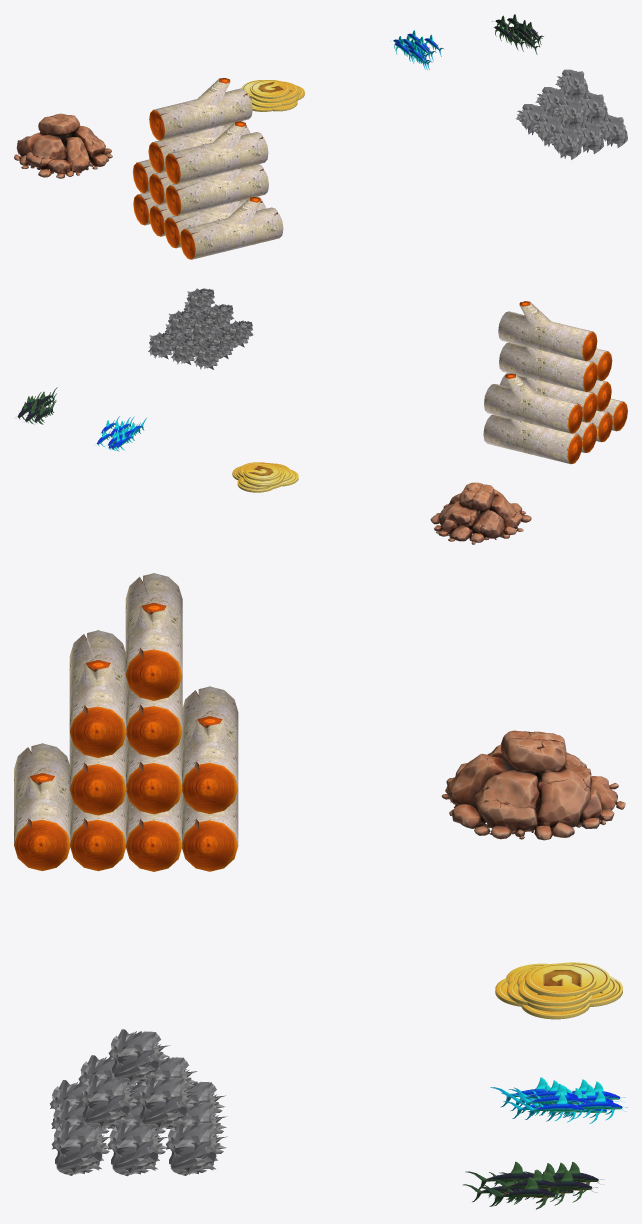
Rendered from Building8Whole_INIT.glb.
3 views of the same model, one above another, from view 1: azimuth 30°, elevation 25°; view 2: azimuth 150°, elevation 25°; view 3: azimuth 270°, elevation 25° (orthographic). The views are drawn at different scales.
Visible parts, largest first — view 1: Building8Whole_INIT; view 2: Building8Whole_INIT; view 3: Building8Whole_INIT.
Part boxes in pixels (x1,y1,x2,y2): Building8Whole_INIT: [14, 14, 627, 259]; Building8Whole_INIT: [14, 288, 627, 544]; Building8Whole_INIT: [14, 573, 627, 1209].
Bounding box in the file's own units: 5.57 × 1.43 × 3.22.
8 materials, 7 textured.
